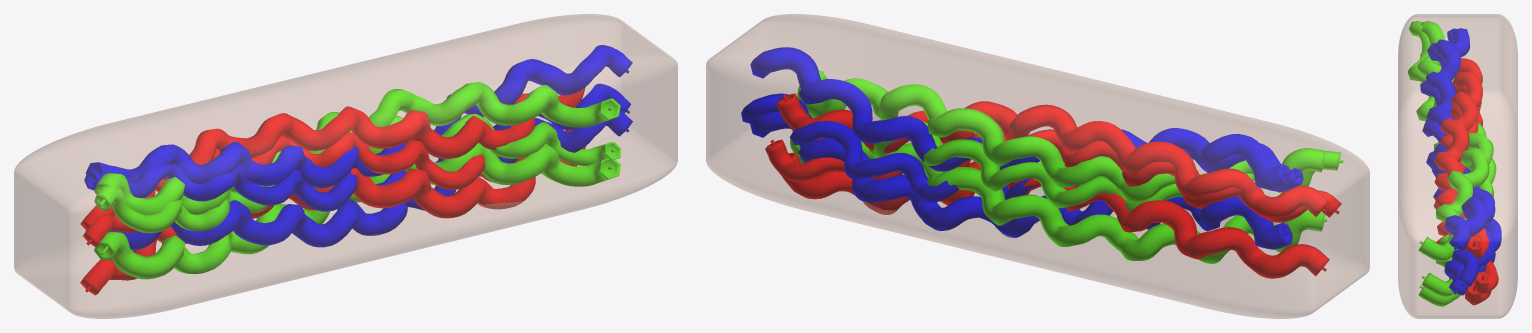
File: wall 2.fbx
3 renders of one model, left to right at view 1: azimuth 30°, elevation 25°; view 2: azimuth 150°, elevation 25°; view 3: azimuth 270°, elevation 25°, orthographic. The views are drawn at different scales.
Parts seen in each view (by area): view 1: Cube, collagen.001, collagen.002, collagen; view 2: Cube, collagen.001, collagen.002, collagen; view 3: Cube, collagen.001, collagen, collagen.002.
Part boxes in pixels (x1,y1,x2,y2): Cube: (14, 14, 677, 318); collagen.001: (80, 45, 632, 231); collagen.002: (80, 110, 632, 295); collagen: (83, 83, 630, 247); Cube: (706, 14, 1369, 318); collagen.001: (750, 47, 1328, 219); collagen.002: (750, 112, 1329, 278); collagen: (741, 93, 1343, 222); Cube: (1398, 14, 1517, 318); collagen.001: (1417, 21, 1495, 261); collagen: (1408, 21, 1501, 296); collagen.002: (1416, 96, 1495, 306).
Size of the model in its own units: 229 by 55.66 by 51.69.
